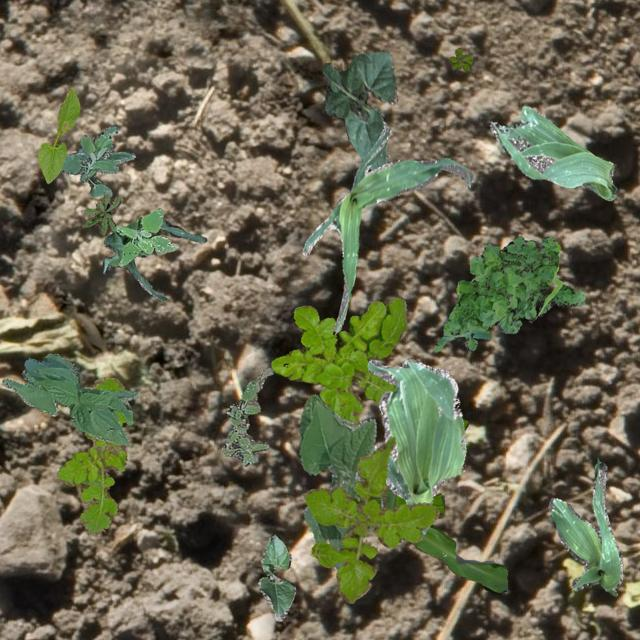crop: (302, 125, 472, 332), (381, 418, 506, 592), (366, 358, 466, 534), (298, 394, 382, 570), (1, 352, 138, 444), (490, 104, 616, 200), (548, 456, 622, 594), (322, 49, 396, 170), (101, 217, 206, 299), (38, 86, 78, 182), (256, 534, 294, 620)
weed: (302, 436, 438, 602), (434, 232, 584, 350), (270, 296, 406, 422), (54, 376, 126, 534), (60, 124, 134, 196), (220, 366, 272, 466), (116, 208, 178, 266), (84, 192, 120, 235), (448, 46, 471, 70)
